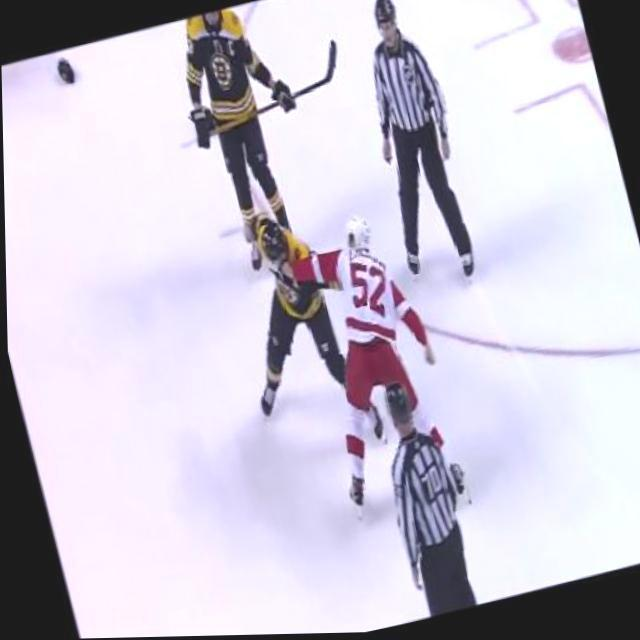fight: (217, 188, 467, 536)
